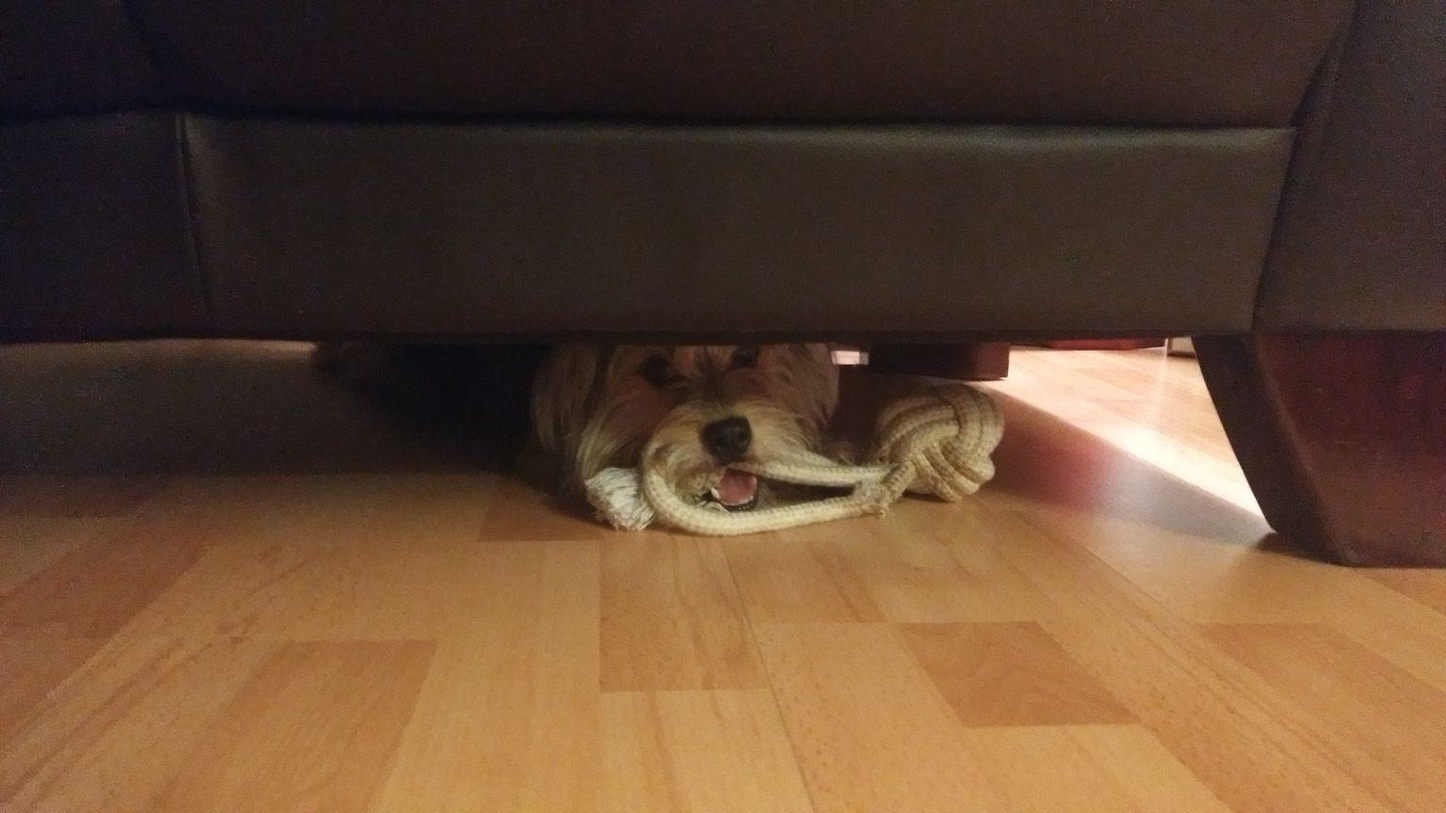adult_dog: (517, 336, 850, 533)
